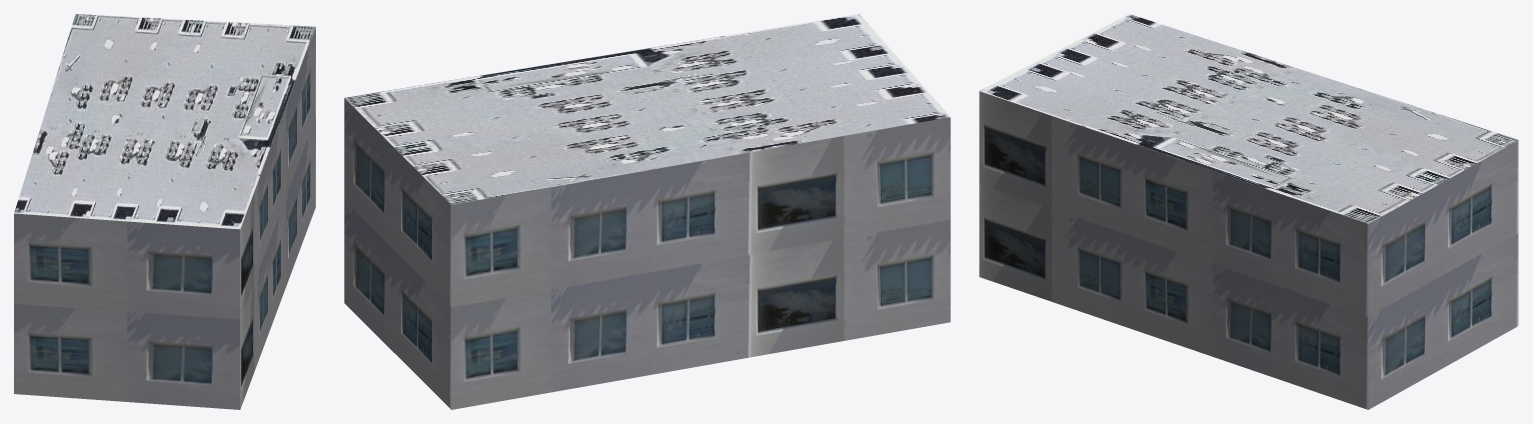
Rendered from ResTex__1875.fbx.
The picture shows the model from 3 angles, left to right: view 1: azimuth 30°, elevation 25°; view 2: azimuth 150°, elevation 25°; view 3: azimuth 270°, elevation 25°; orthographic projection. The views are drawn at different scales.
Visible parts, largest first — view 1: CityEngineMaterial_10_m, CityEngineMaterial_m; view 2: CityEngineMaterial_10_m, CityEngineMaterial_m; view 3: CityEngineMaterial_10_m, CityEngineMaterial_m.
Boxes of the visible parts, x1,y1,x2,y2 form: CityEngineMaterial_10_m: [14, 27, 315, 409]; CityEngineMaterial_m: [14, 14, 315, 229]; CityEngineMaterial_10_m: [344, 98, 950, 409]; CityEngineMaterial_m: [344, 14, 950, 204]; CityEngineMaterial_10_m: [979, 91, 1518, 409]; CityEngineMaterial_m: [979, 14, 1517, 223].
Bounding box in the file's own units: 14.53 × 6 × 15.78.
Materials: 2 (2 with a texture image).
